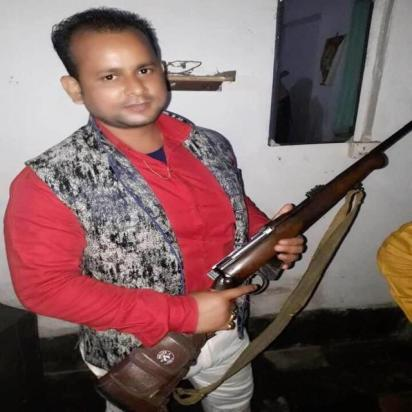Gun: (88, 119, 412, 412)
